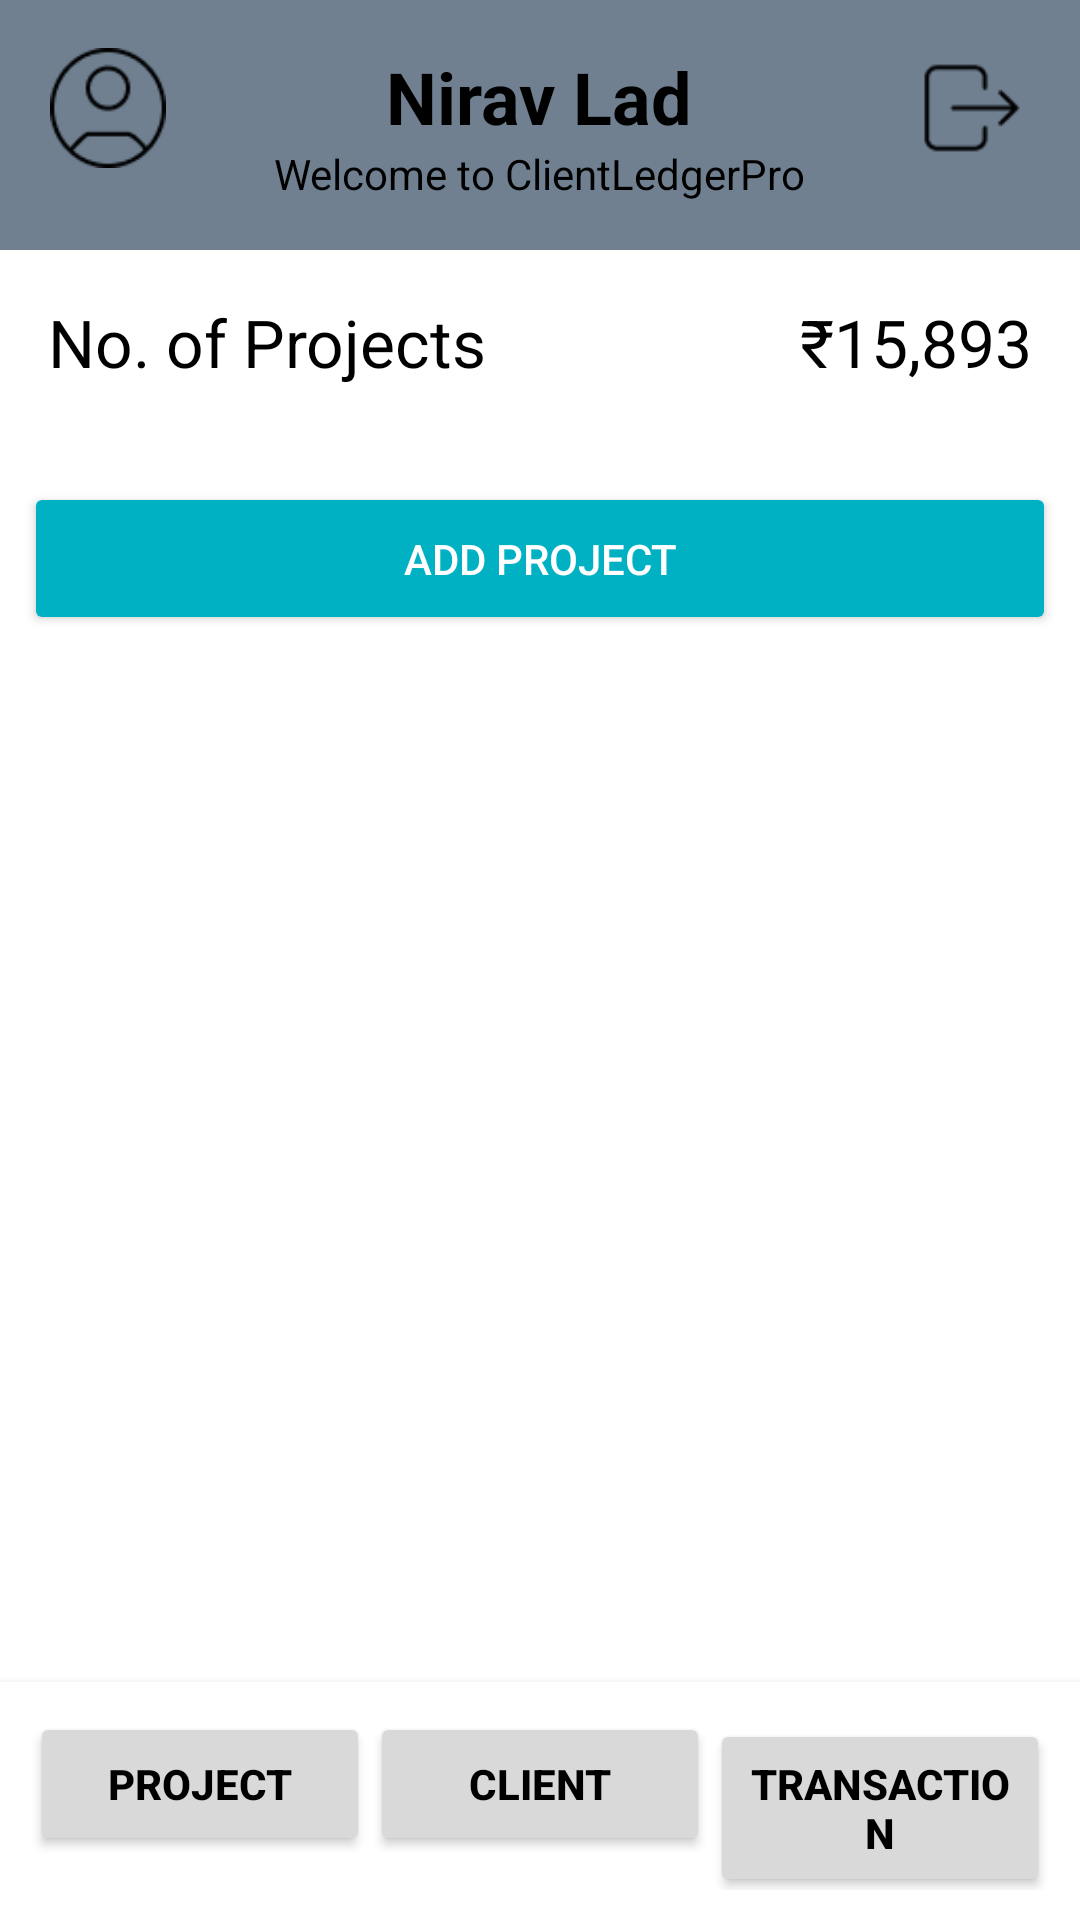

Screen size 1080*1920. Icon name, then its center in pixels as (x=x, y=y):
Profile Icon: (x=108, y=108)
